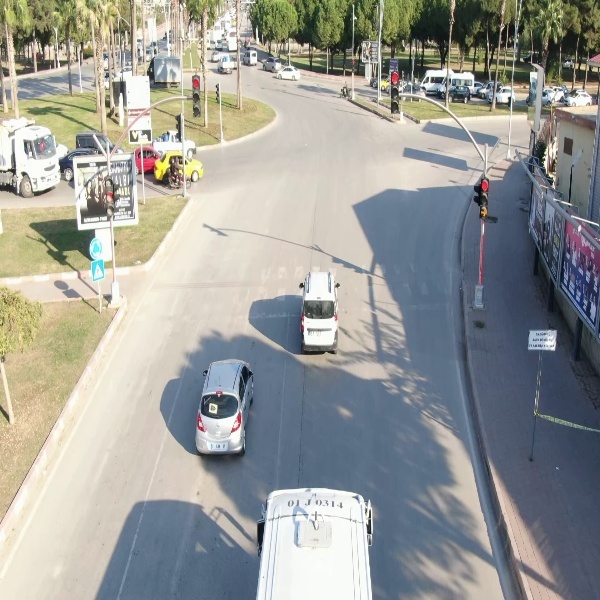car: (193, 356, 257, 456), (298, 268, 341, 356), (485, 85, 518, 104), (445, 83, 474, 104), (275, 63, 302, 83), (565, 89, 595, 107), (259, 56, 284, 73), (241, 49, 262, 67)
